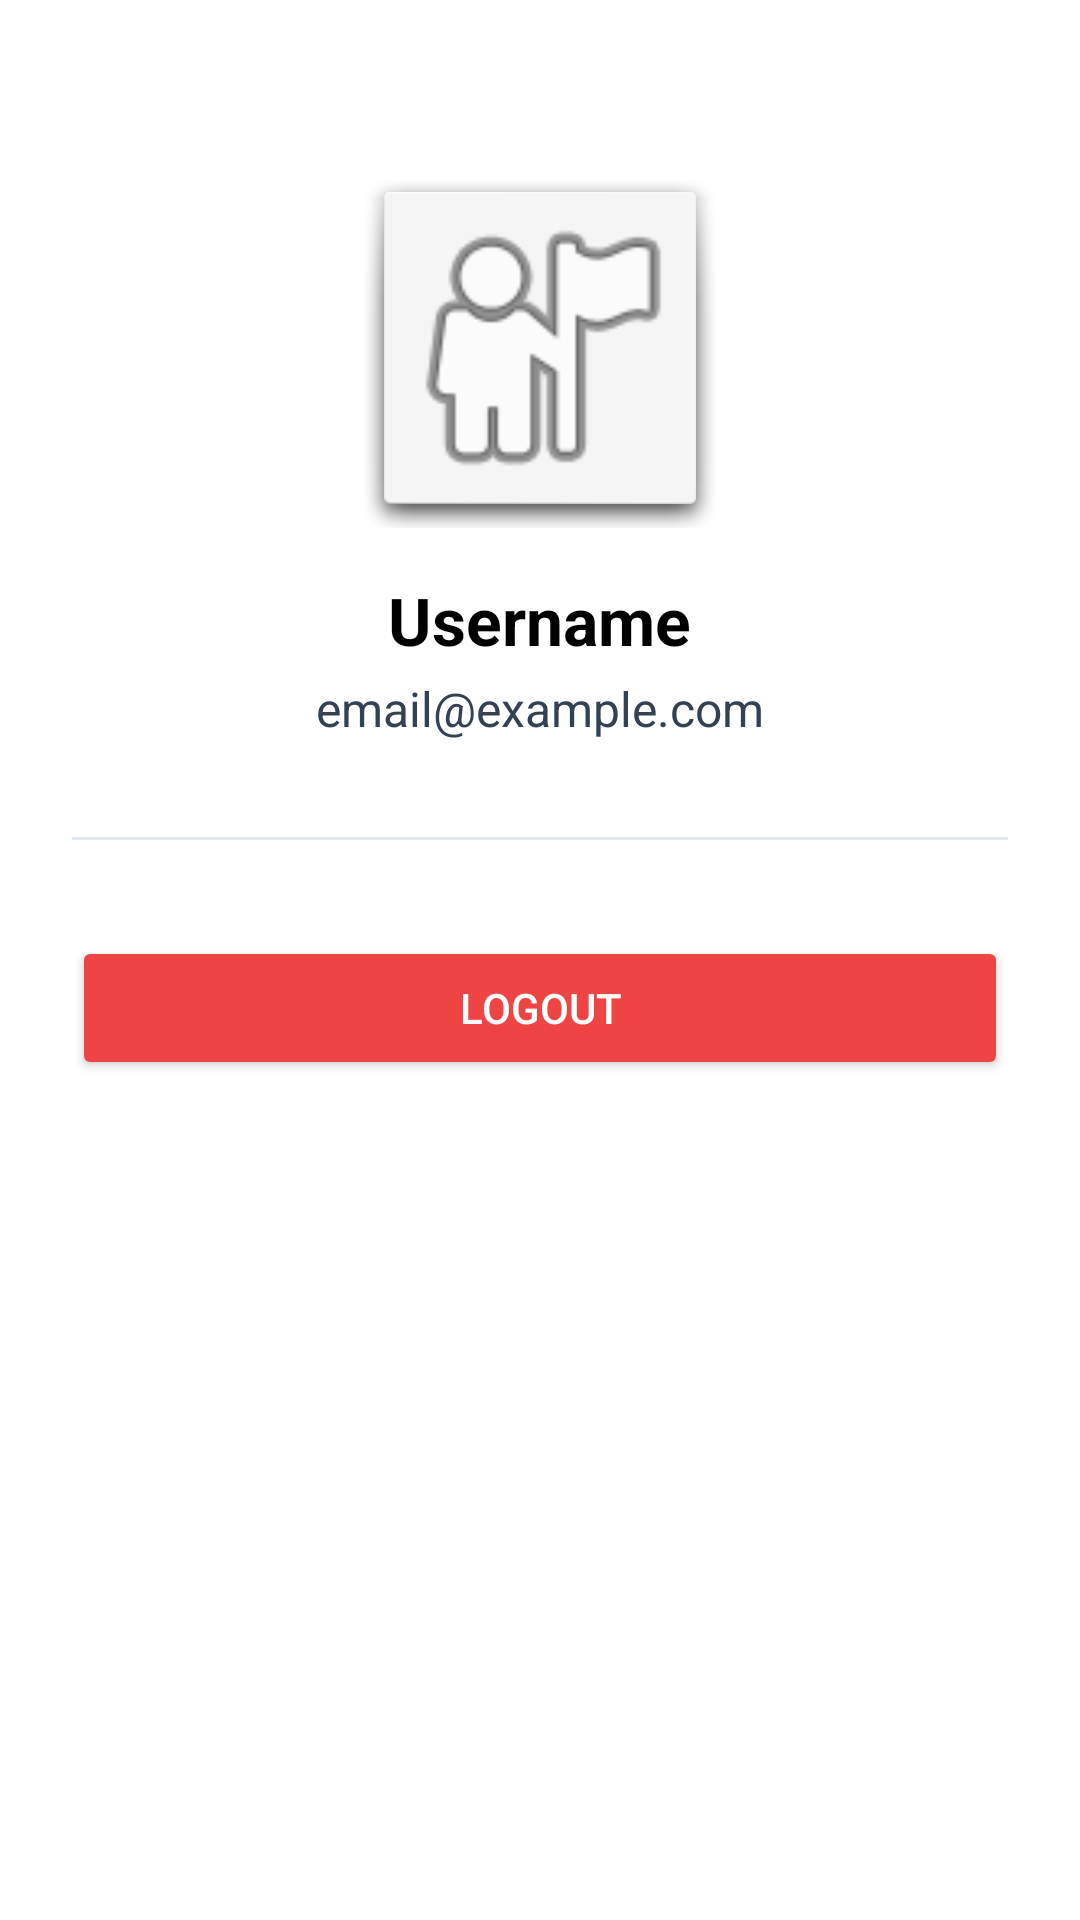

Locate icon controls on the screen. Image size 1080 × 1920, boxes as (x1,y1,x2,y2).
myplaces: (367,183,713,528)
